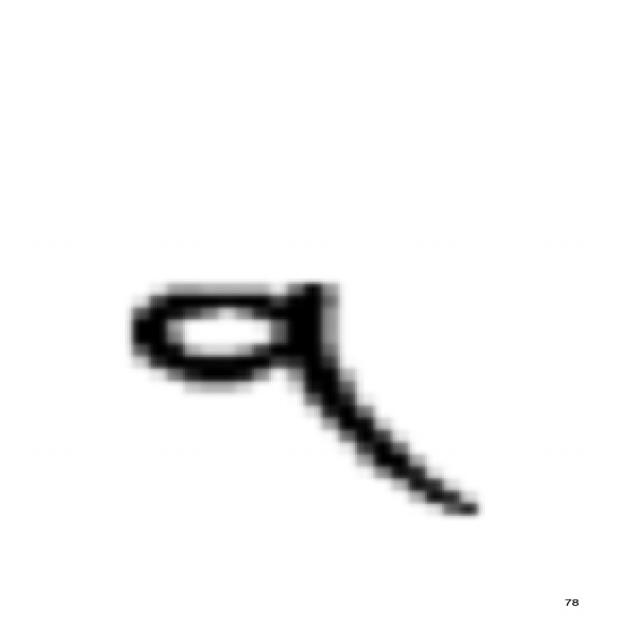9 -nine-: (108, 268, 490, 530)
